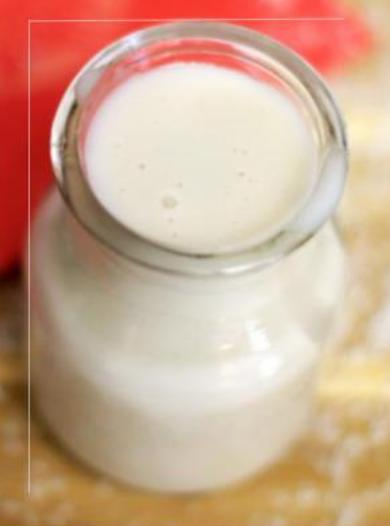produk_susu: (30, 28, 341, 496)
